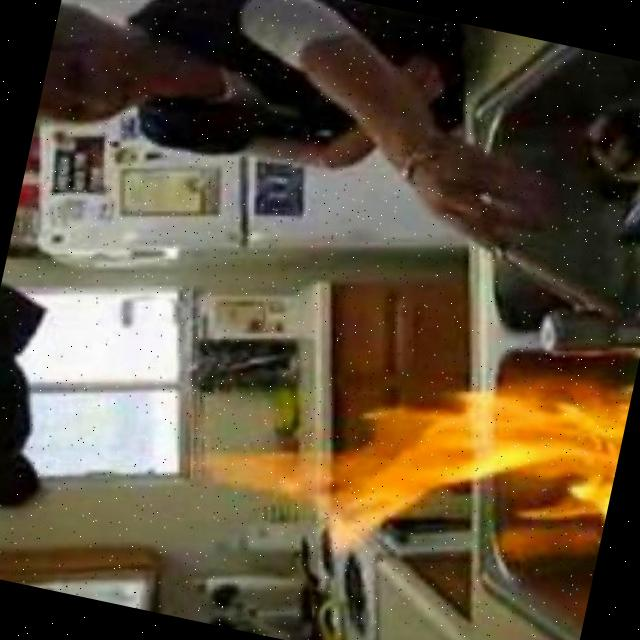fire: (185, 303, 632, 622)
